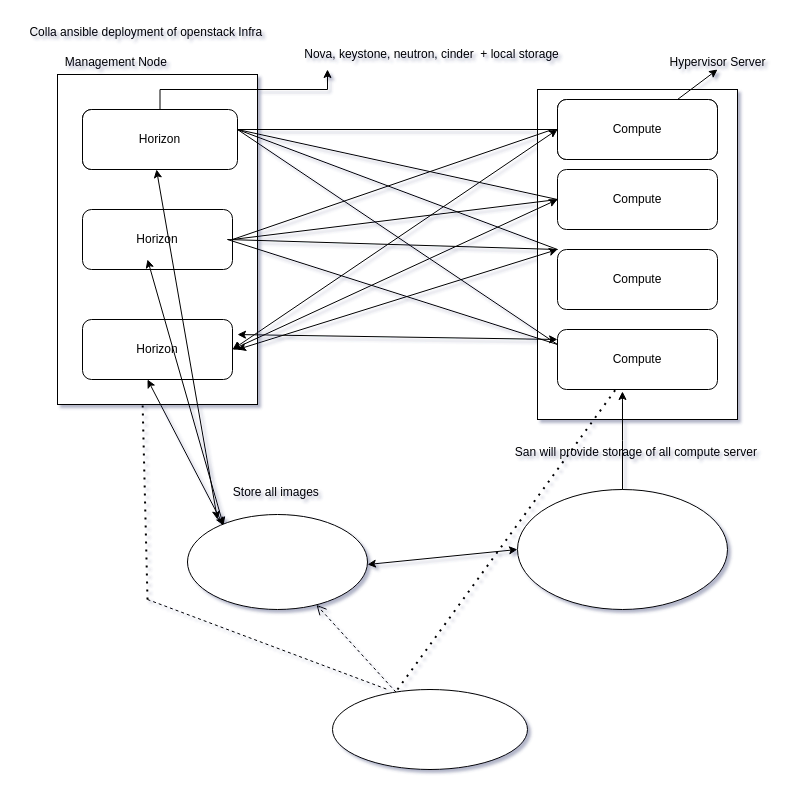
Some shapes in this 800 by 793 pixel diagram are drawn without their labels. Here are the shapes that lost their labels. From the top down, the centre of each, then its label:
At point (277, 562): "Glance Server".
At point (622, 549): "SAN STORAGE".
At point (430, 729): "Deployment VM".
